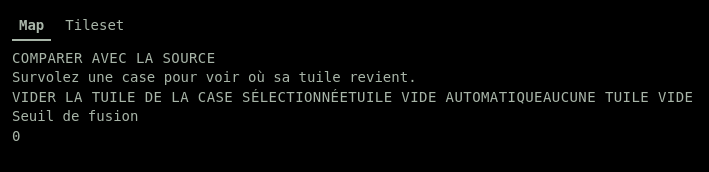
Scenario: TilesetMapView › shows the source in place of the result when the user compares
This screenshot has width=709, height=172.
Click the button "Comparer avec la source" at (114, 58), box [12,49,216,68]
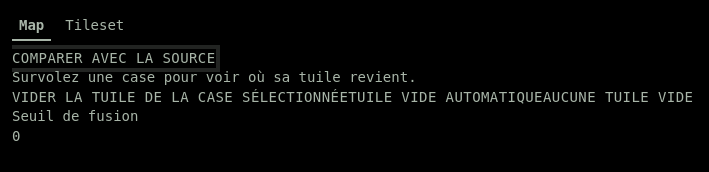
Check: the picture named "Map source" is shown, box [216,55,240,63]
